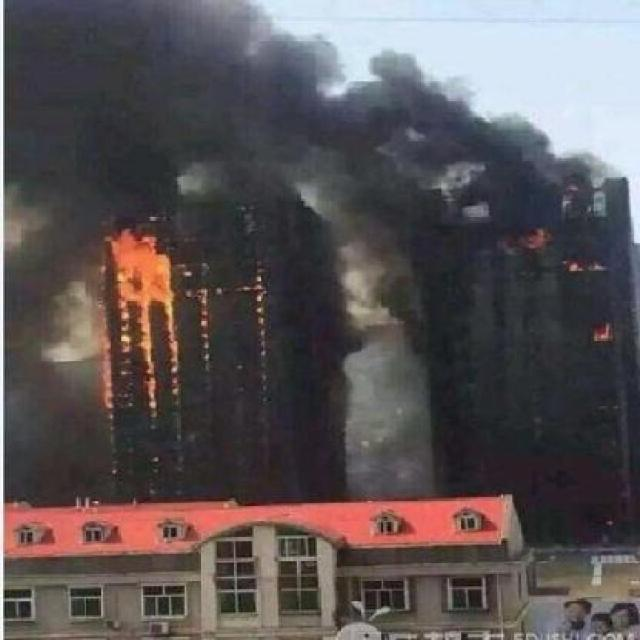Fire: (96, 230, 181, 432)
